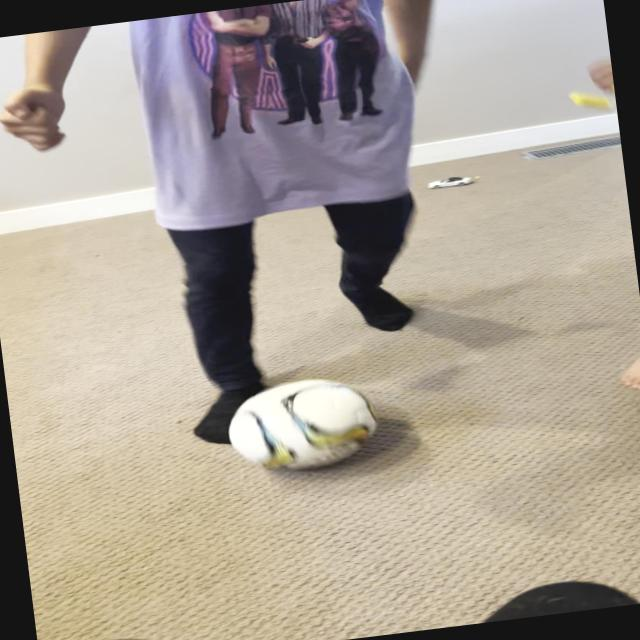Soccer Ball: (222, 371, 383, 476)
